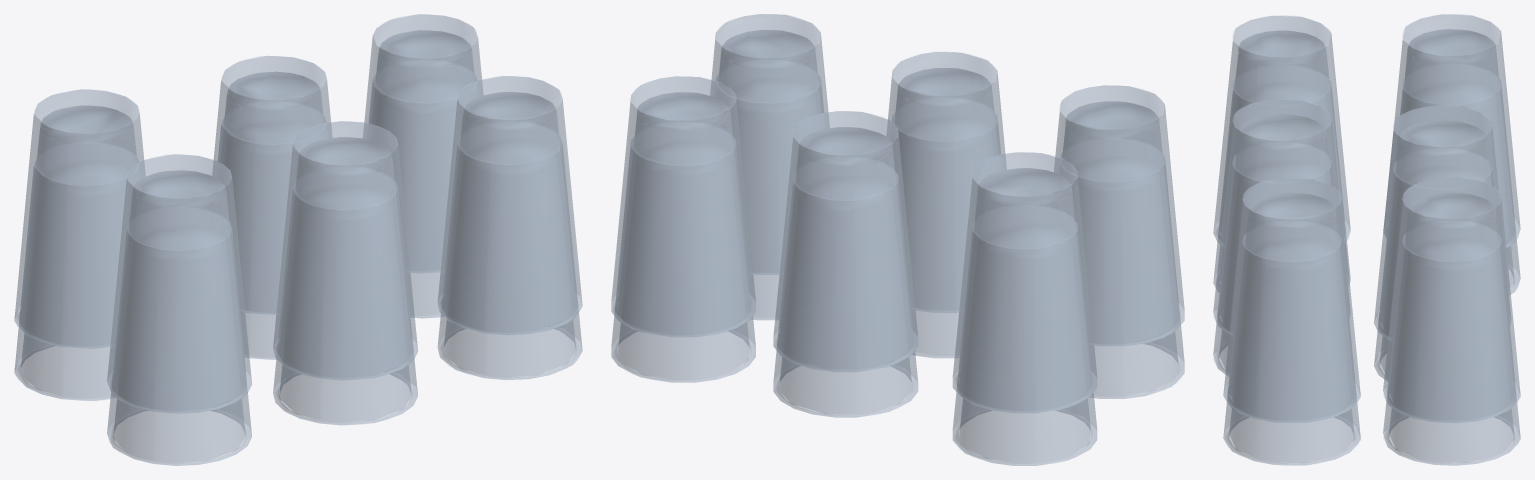
Rendered from pintglass_3x2x2.gltf.
The picture shows the model from 3 angles, left to right: view 1: azimuth 30°, elevation 25°; view 2: azimuth 150°, elevation 25°; view 3: azimuth 270°, elevation 25°; orthographic projection. The views are drawn at different scales.
Visible parts, largest first — view 1: defaultMaterial.352; view 2: defaultMaterial.352; view 3: defaultMaterial.352.
Part boxes in pixels (x1=…): defaultMaterial.352: x1=14, y1=14, x2=582, y2=465; defaultMaterial.352: x1=611, y1=14, x2=1184, y2=465; defaultMaterial.352: x1=1213, y1=14, x2=1520, y2=465.
Size of the model in its own units: 0.3401 by 0.1814 by 0.2059.
1 material, 1 textured.
